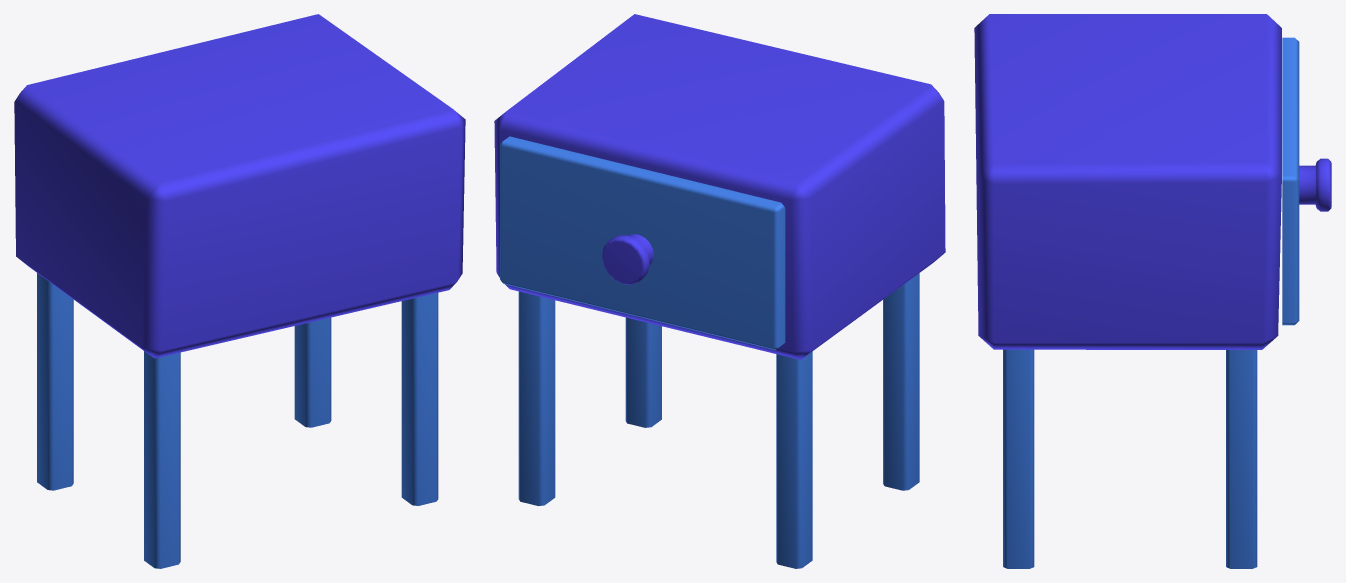
Rendered from Sidetable.fbx.
3 views of the same model, side by side, from view 1: azimuth 30°, elevation 25°; view 2: azimuth 150°, elevation 25°; view 3: azimuth 270°, elevation 25° (orthographic). The views are drawn at different scales.
Visible parts, largest first — view 1: SideTable; view 2: SideTable; view 3: SideTable.
Part boxes in pixels (x1,y1,x2,y2): SideTable: (14, 14, 465, 568); SideTable: (494, 14, 945, 568); SideTable: (974, 14, 1331, 568).
Size of the model in its own units: 62.67 by 72.65 by 57.47.
